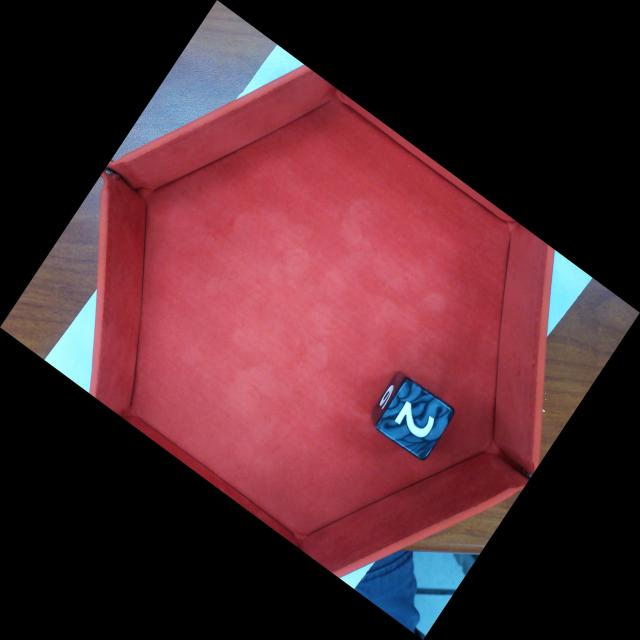dice: (374, 375, 456, 462)
